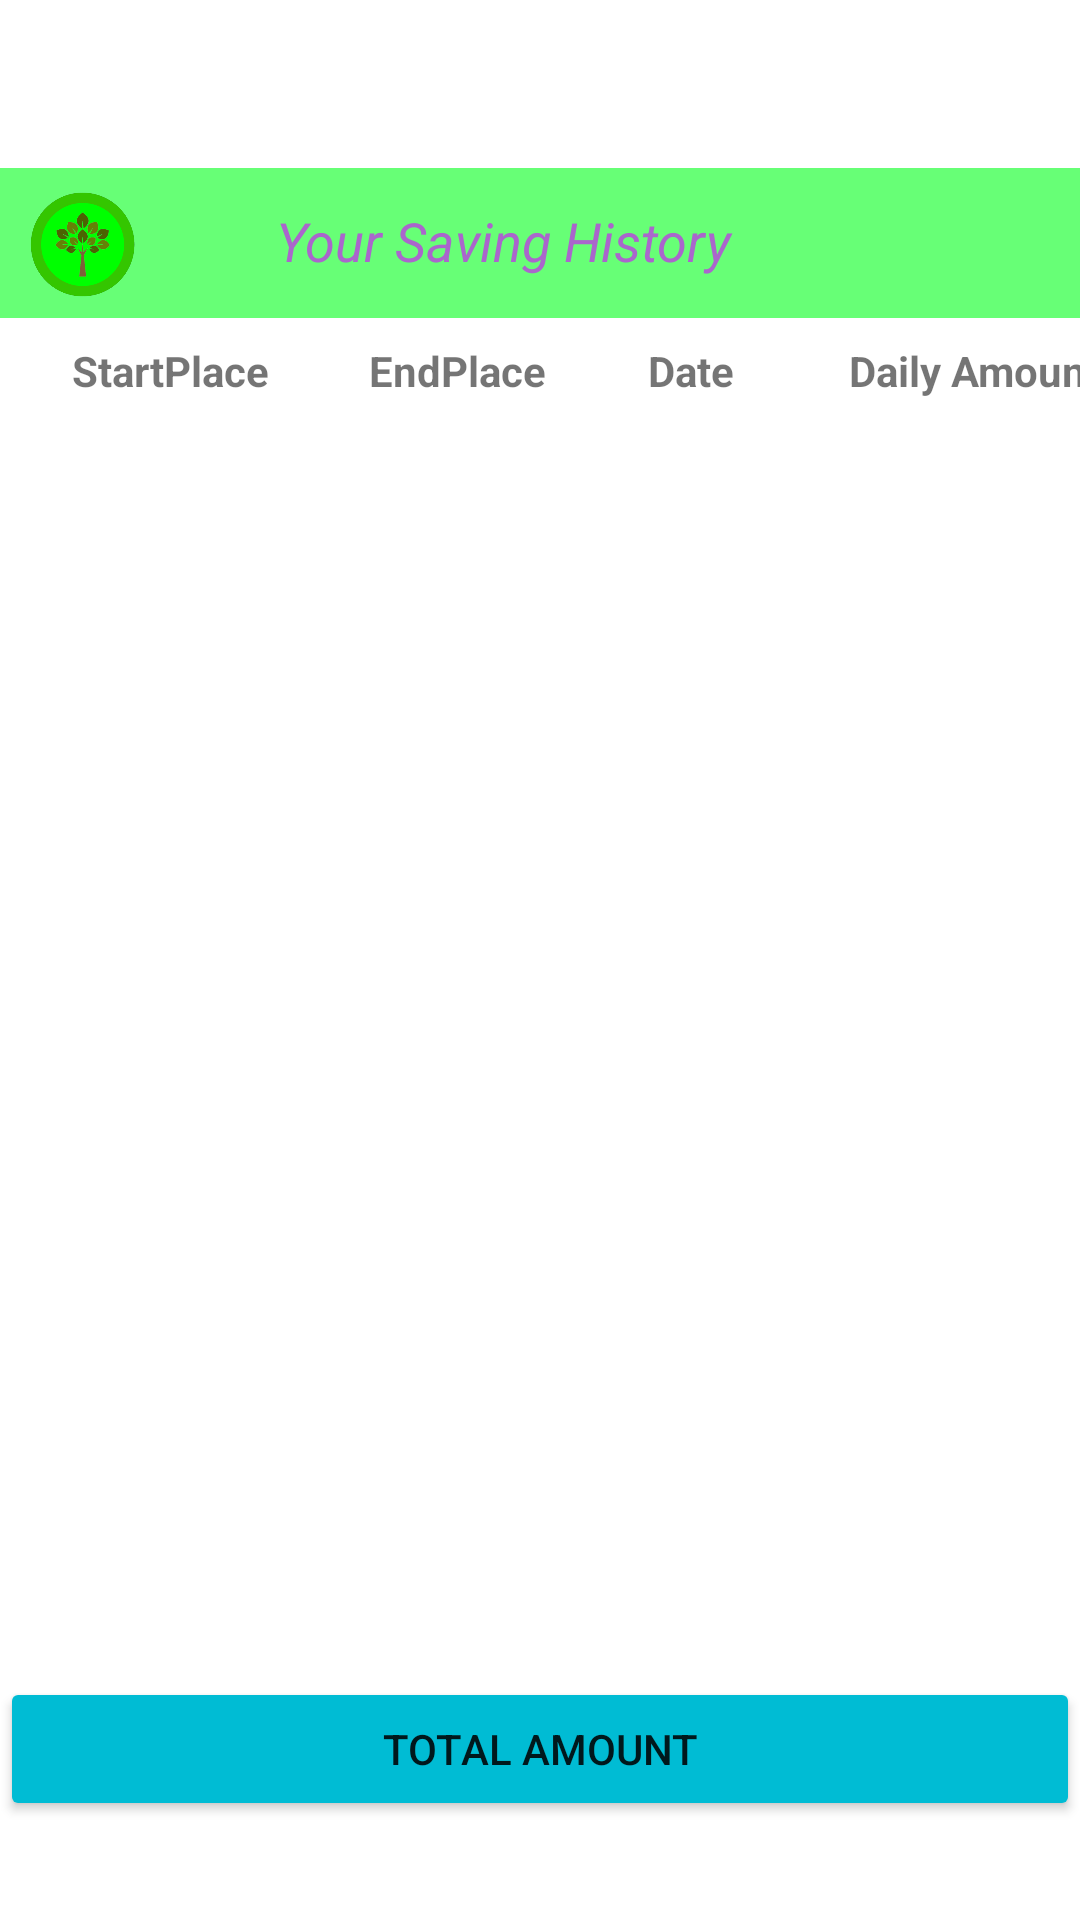

Icons on this 1080 x 1920 Android screen, each with the point to tap as (x,y):
tree coin: (83,244)
